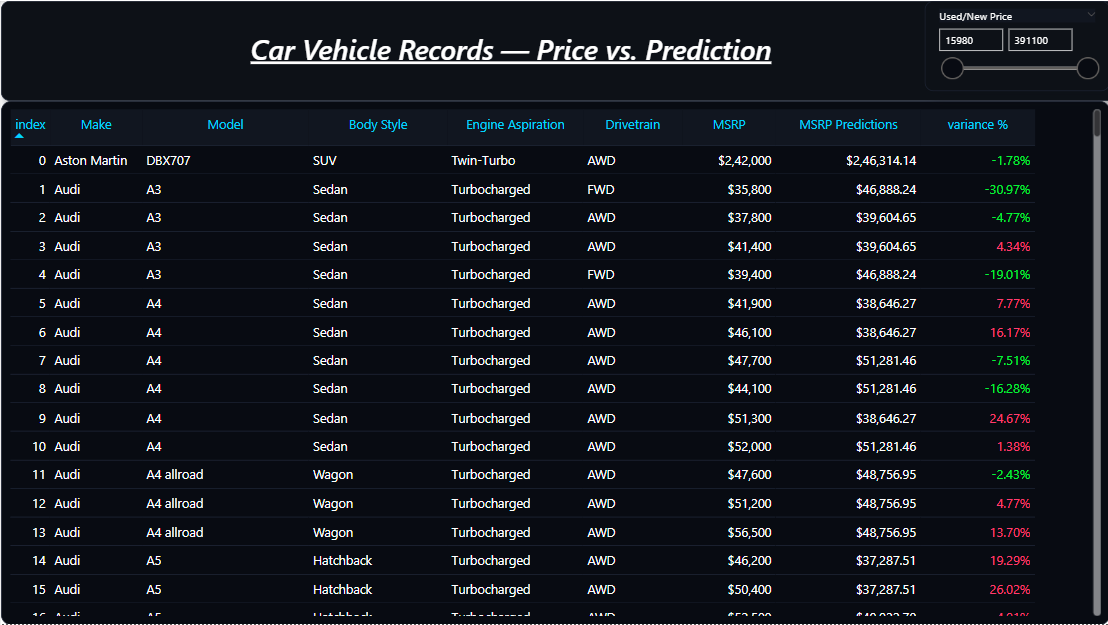

What the dashboard file says about the page in this screenshot:
{"tool":"powerbi","page":{"name":"Table","canvas":[1280,720],"ordinal":1},"visuals":[{"type":"shape","box":[0,0,1800.6,115.4],"z":0},{"type":"tableEx","fields":{"Values":["Sheet1.index","Sheet1.Make","Sheet1.Model","Sheet1.Body Style","Sheet1.Engine Aspiration","Sheet1.Drivetrain","Sheet1.MSRP","Sheet1.MSRP Predictions","Sheet1.Avg Error %"]},"box":[0,115.4,1279.7,604.5],"z":1000},{"type":"slicer","fields":{"Values":["Sheet1.Used/New Price"]},"box":[1066.2,0,213.5,103.9],"z":2000},{"type":"textbox","box":[203.4,28.9,770.4,57.7],"z":2001}]}

Visuals, with their boxes in screenshot pixels (x1, y1, x2, y2), scaled from the page's 1280x720 canvas onto the 1108x625 screenshot:
shape: crop(0, 0, 1107, 100)
tableEx - Sheet1.index x Sheet1.Make: crop(0, 100, 1107, 624)
slicer - Sheet1.Used/New Price: crop(923, 0, 1107, 90)
textbox: crop(176, 25, 843, 75)
